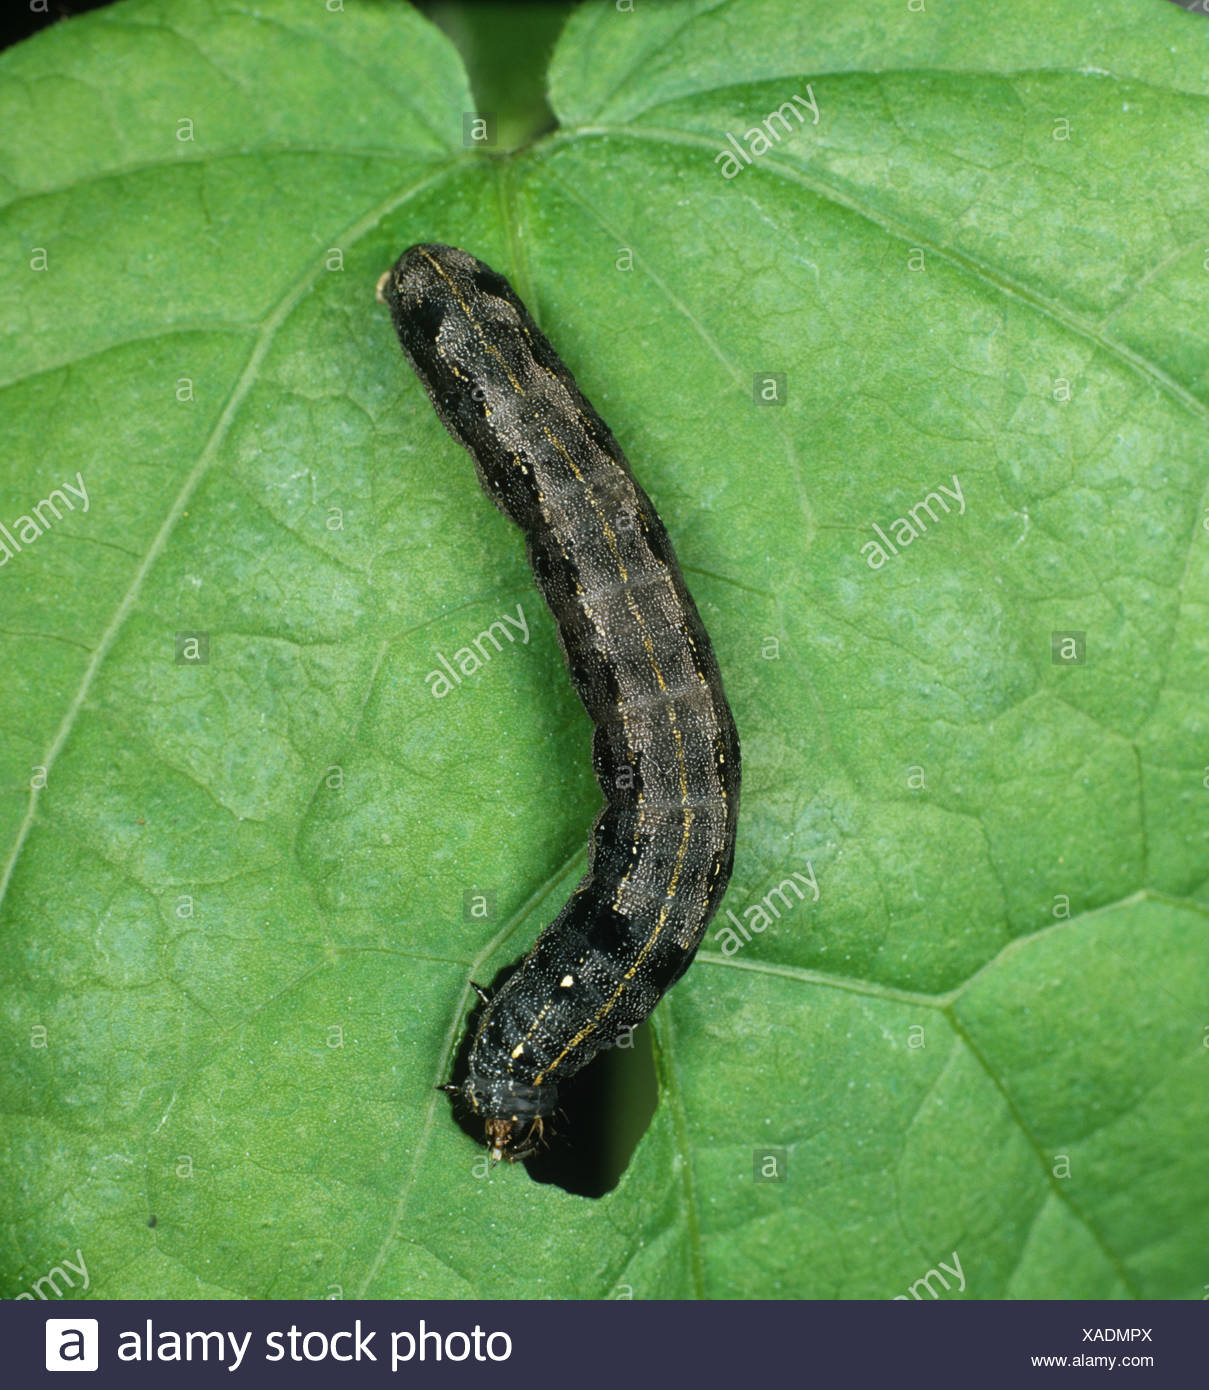Armyworm: (350, 207, 769, 1154)
